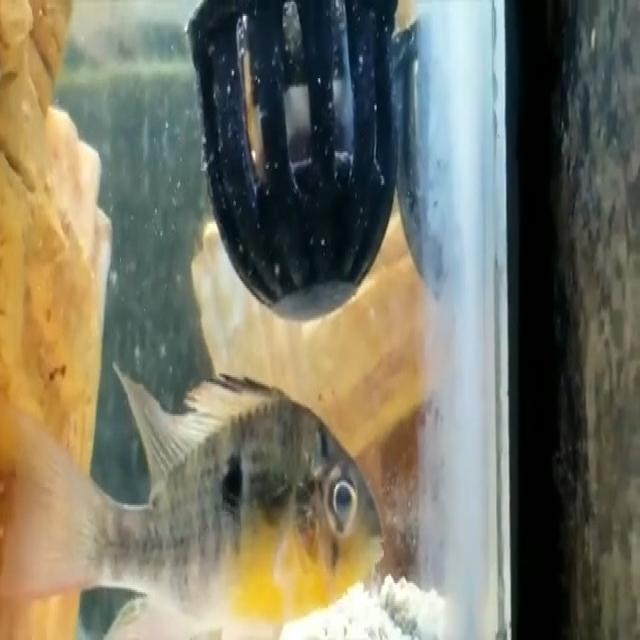fish: (2, 354, 388, 640)
